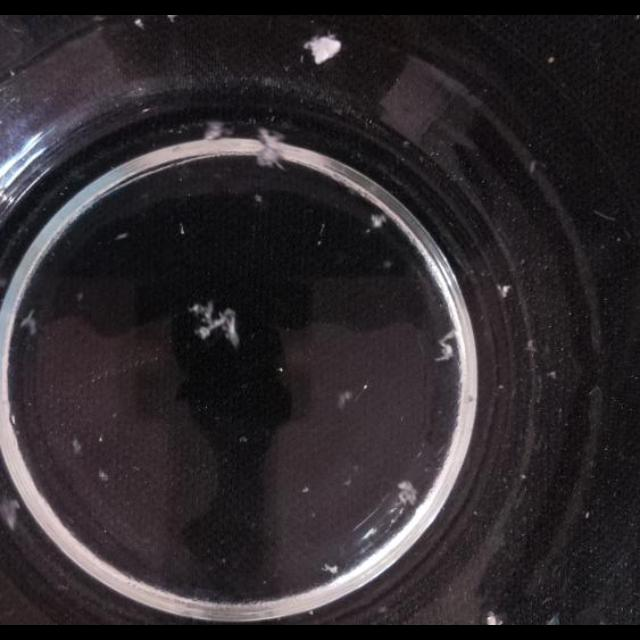Fibre: (190, 300, 240, 348), (253, 128, 289, 168), (434, 328, 458, 362), (202, 121, 228, 141), (18, 311, 38, 337), (338, 388, 356, 409), (529, 160, 547, 177), (371, 211, 387, 227), (70, 438, 82, 456), (525, 339, 539, 353), (498, 284, 512, 298), (546, 614, 560, 626)
microbeads: (304, 34, 346, 68), (1, 492, 22, 530), (396, 480, 418, 508), (486, 612, 502, 626), (322, 564, 338, 576), (98, 468, 109, 482), (134, 18, 146, 28), (318, 222, 326, 236), (114, 232, 128, 240), (382, 259, 392, 269), (254, 193, 264, 203), (546, 369, 556, 379), (178, 223, 186, 235), (343, 476, 352, 486), (238, 436, 248, 444), (76, 291, 84, 301), (301, 486, 309, 492), (584, 512, 590, 520), (98, 436, 104, 444), (362, 384, 368, 392), (520, 474, 526, 481), (498, 384, 504, 391), (221, 558, 227, 564)
